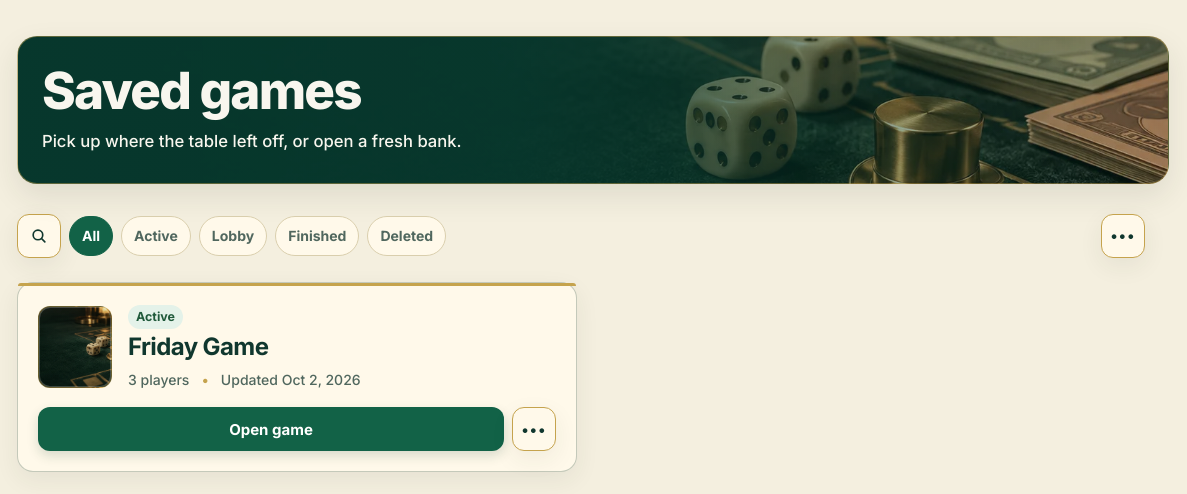
Test: SavedGamesPage deleted games › restores a deleted game back into the saved games
The image size is (1187, 494).
Expected: the heading "Friday Game" is shown, [128,332,268,361]
Click the radio button labelled "Deleted" at (407, 236), box [367,216,446,256]
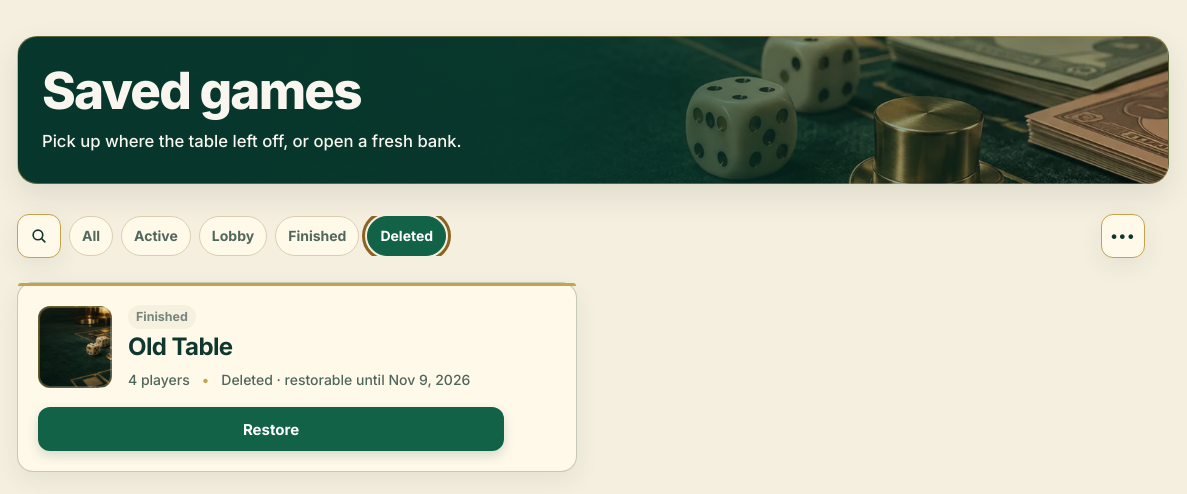
Click the button "Restore" at (271, 429), box [38,407,504,451]
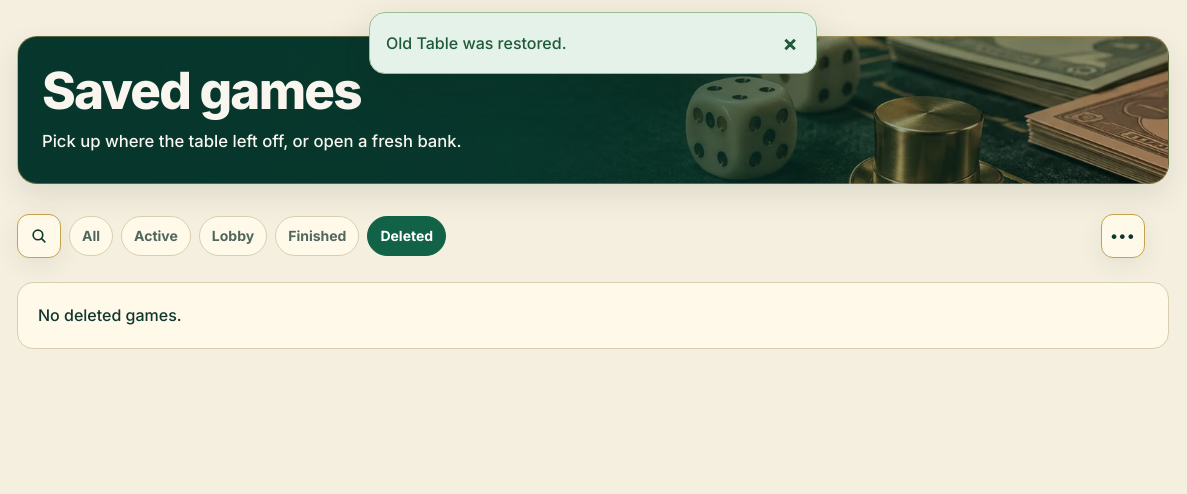
Now the text "Old Table was restored." is shown, box [386,33,566,53]
Now the text "No deleted games." is shown, box [17,282,1169,349]
